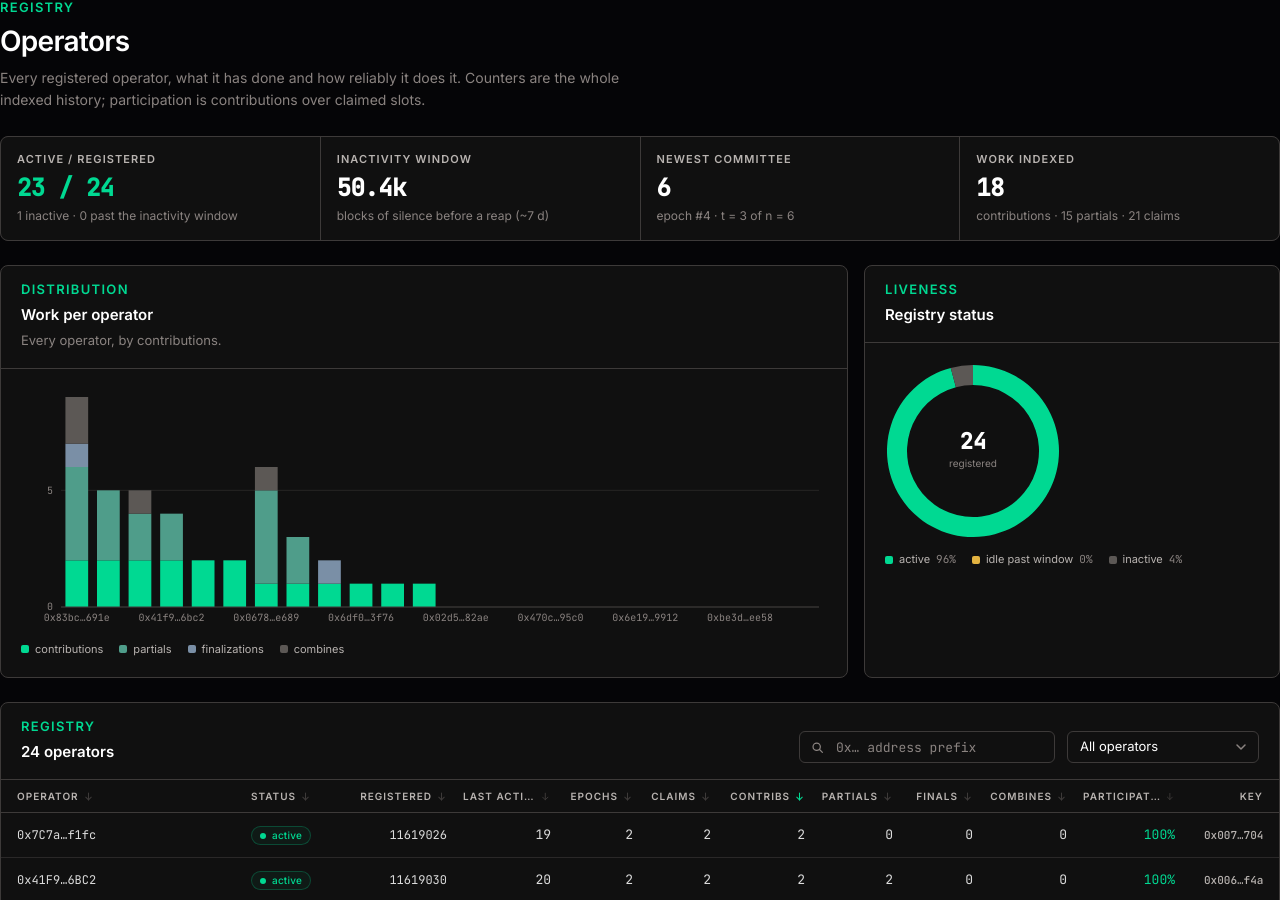
OperatorsPage › filters by status
Select "Inactive" in the dropdown named "Filter by status": x=1163, y=747 [1067, 731, 1259, 763]
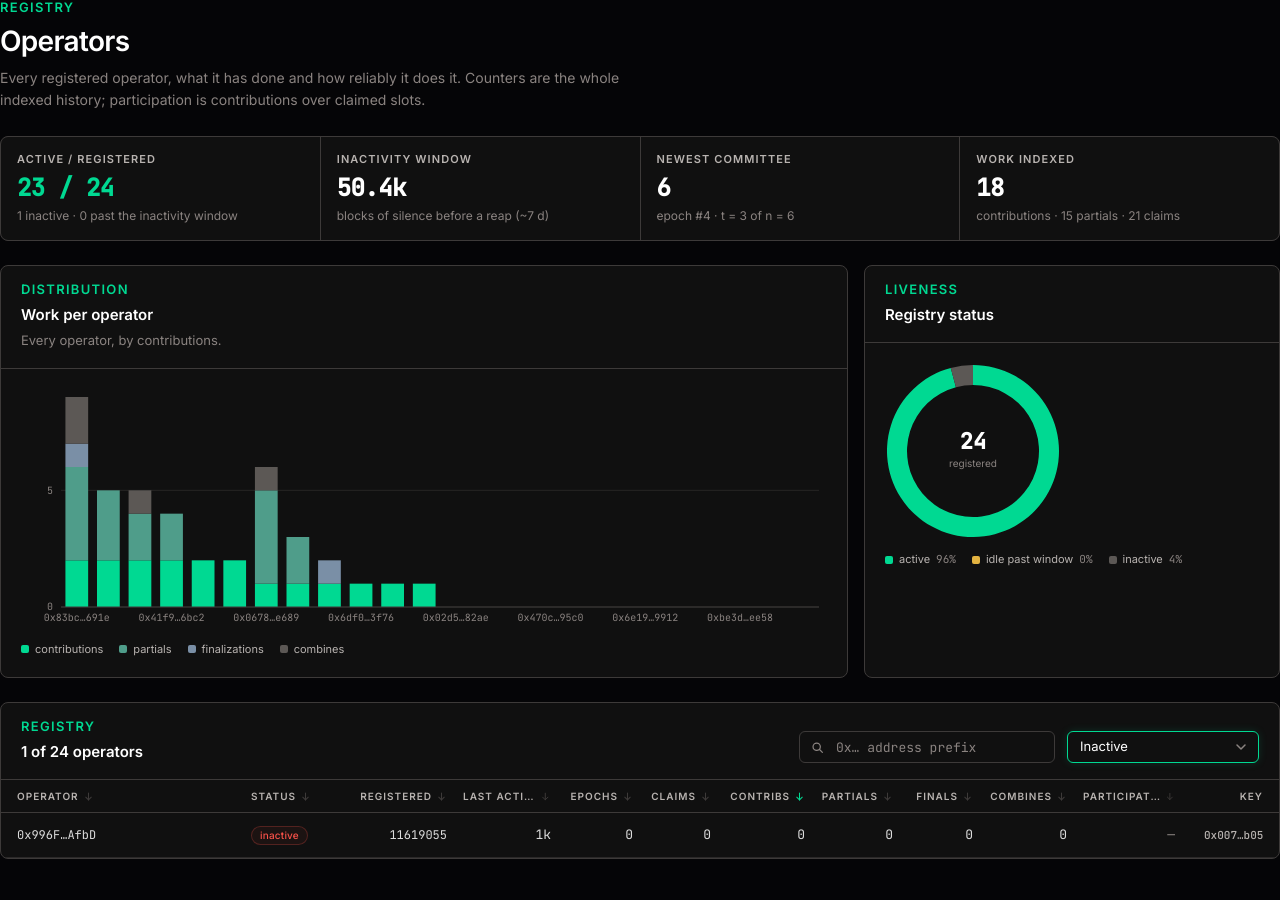
Result: the heading "1 of 24 operators" is shown at [21, 741, 143, 763]
